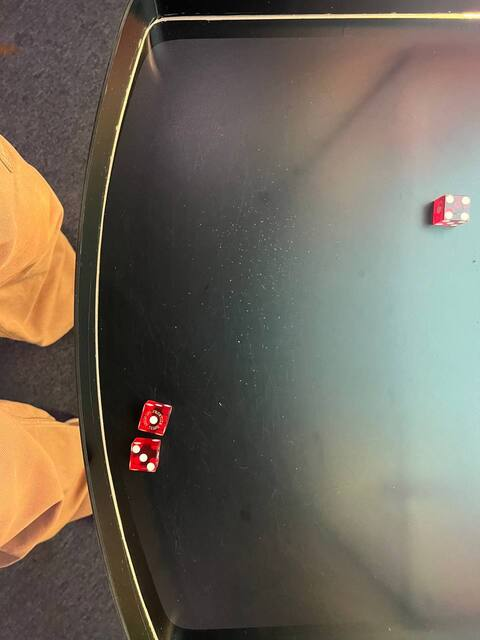four: (438, 191, 473, 224)
one: (135, 405, 168, 436)
three: (126, 440, 161, 475)
